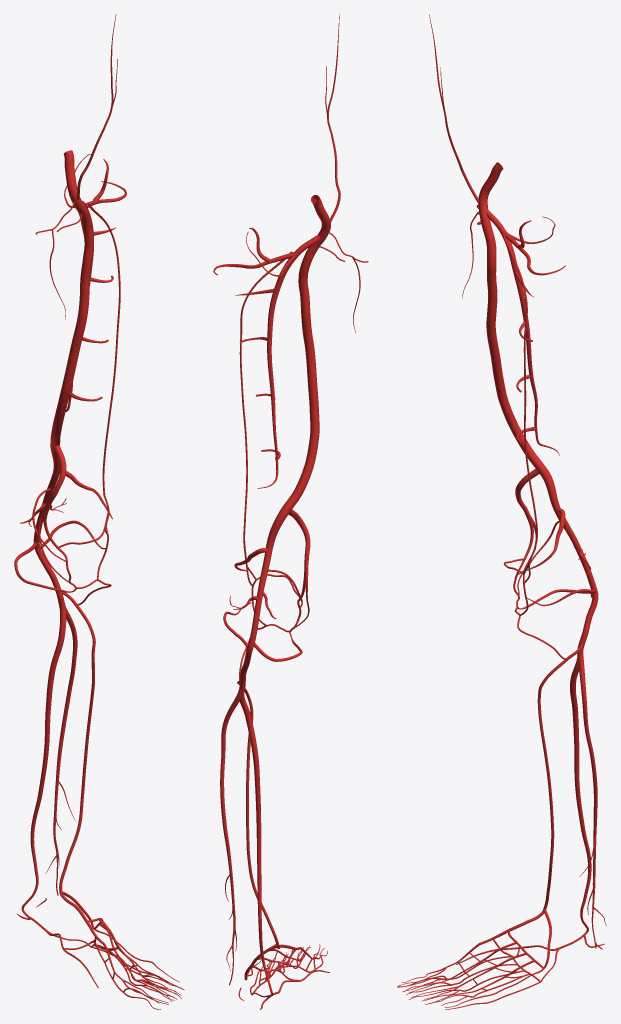
The model's file is circulatorio-femoral-artery-l.glb.
3 renders of one model, left to right at view 1: azimuth 30°, elevation 25°; view 2: azimuth 150°, elevation 25°; view 3: azimuth 270°, elevation 25°, orthographic. The views are drawn at different scales.
Parts seen in each view (by area): view 1: Femoral artery.l, Posterior tibial artery.l, Fibular artery.l, Anterior tibial artery.l, Superior medial genicular artery.l, Popliteal artery.l, Descending branch of lateral circumflex femoral artery.l, Patellar anastomosis.l, Dorsal digital arteries of foot.l, Superficial epigastric artery.l, Proper plantar digital arteries.l, Dorsal metatarsal arteries.l; view 2: Femoral artery.l, Posterior tibial artery.l, Deep femoral artery.l, Fibular artery.l, Popliteal artery.l, Anterior tibial artery.l, Descending branch of lateral circumflex femoral artery.l, Superior medial genicular artery.l, Superficial epigastric artery.l, Patellar anastomosis.l, Lateral circumflex femoral artery.l; view 3: Femoral artery.l, Posterior tibial artery.l, Fibular artery.l, Popliteal artery.l, Deep femoral artery.l, Anterior tibial artery.l, Descending branch of lateral circumflex femoral artery.l, Superior medial genicular artery.l, Proper plantar digital arteries.l, Dorsal digital arteries of foot.l, Patellar anastomosis.l, Dorsal metatarsal arteries.l (+1 smaller).
Part boxes in pixels (box(x1,y1,x2,y2)): Femoral artery.l: box(50, 150, 93, 448); Posterior tibial artery.l: box(21, 602, 66, 930); Fibular artery.l: box(45, 606, 77, 895); Anterior tibial artery.l: box(59, 592, 95, 892); Superior medial genicular artery.l: box(32, 445, 68, 582); Popliteal artery.l: box(33, 445, 64, 603); Descending branch of lateral circumflex femoral artery.l: box(88, 204, 120, 495); Patellar anastomosis.l: box(57, 496, 111, 605); Dorsal digital arteries of foot.l: box(94, 929, 183, 1003); Superficial epigastric artery.l: box(76, 14, 117, 200); Proper plantar digital arteries.l: box(92, 947, 184, 1009); Dorsal metatarsal arteries.l: box(99, 918, 142, 980); Femoral artery.l: box(280, 195, 330, 515); Posterior tibial artery.l: box(239, 692, 277, 995); Deep femoral artery.l: box(257, 235, 320, 488); Fibular artery.l: box(220, 691, 243, 985); Popliteal artery.l: box(238, 511, 286, 692); Anterior tibial artery.l: box(237, 680, 278, 945); Descending branch of lateral circumflex femoral artery.l: box(239, 251, 291, 555); Superior medial genicular artery.l: box(268, 509, 310, 627); Superficial epigastric artery.l: box(325, 14, 340, 222); Patellar anastomosis.l: box(239, 555, 301, 680); Lateral circumflex femoral artery.l: box(213, 227, 295, 275); Femoral artery.l: box(478, 162, 547, 474); Posterior tibial artery.l: box(560, 655, 591, 948); Fibular artery.l: box(578, 655, 606, 948); Popliteal artery.l: box(541, 470, 598, 656); Deep femoral artery.l: box(485, 209, 559, 455); Anterior tibial artery.l: box(537, 645, 582, 909); Descending branch of lateral circumflex femoral artery.l: box(502, 233, 537, 549); Superior medial genicular artery.l: box(515, 468, 567, 595); Proper plantar digital arteries.l: box(397, 975, 540, 1009); Dorsal digital arteries of foot.l: box(397, 966, 543, 1007); Patellar anastomosis.l: box(503, 549, 566, 659); Dorsal metatarsal arteries.l: box(446, 942, 534, 988).
Size of the model in its own units: 0.1412 by 1.06 by 0.2086.
